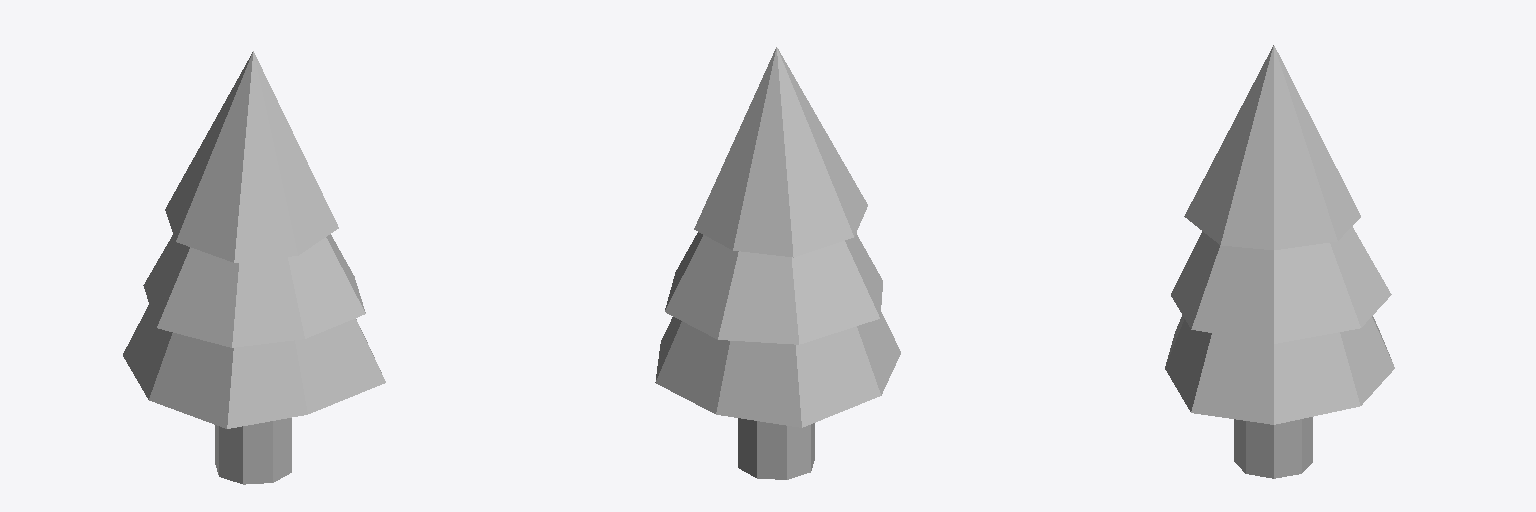
File: tree4.obj
3 views of the same model, side by side, from view 1: azimuth 30°, elevation 25°; view 2: azimuth 150°, elevation 25°; view 3: azimuth 270°, elevation 25° (orthographic).
Visible parts, largest first — view 1: Cone.001_Cone.004; view 2: Cone.001_Cone.004; view 3: Cone.001_Cone.004.
Boxes of the visible parts, x1,y1,x2,y2 form: Cone.001_Cone.004: [123, 51, 385, 484]; Cone.001_Cone.004: [655, 47, 900, 479]; Cone.001_Cone.004: [1165, 45, 1394, 478].
Bounding box in the file's own units: 2.09 × 3.78 × 1.89.